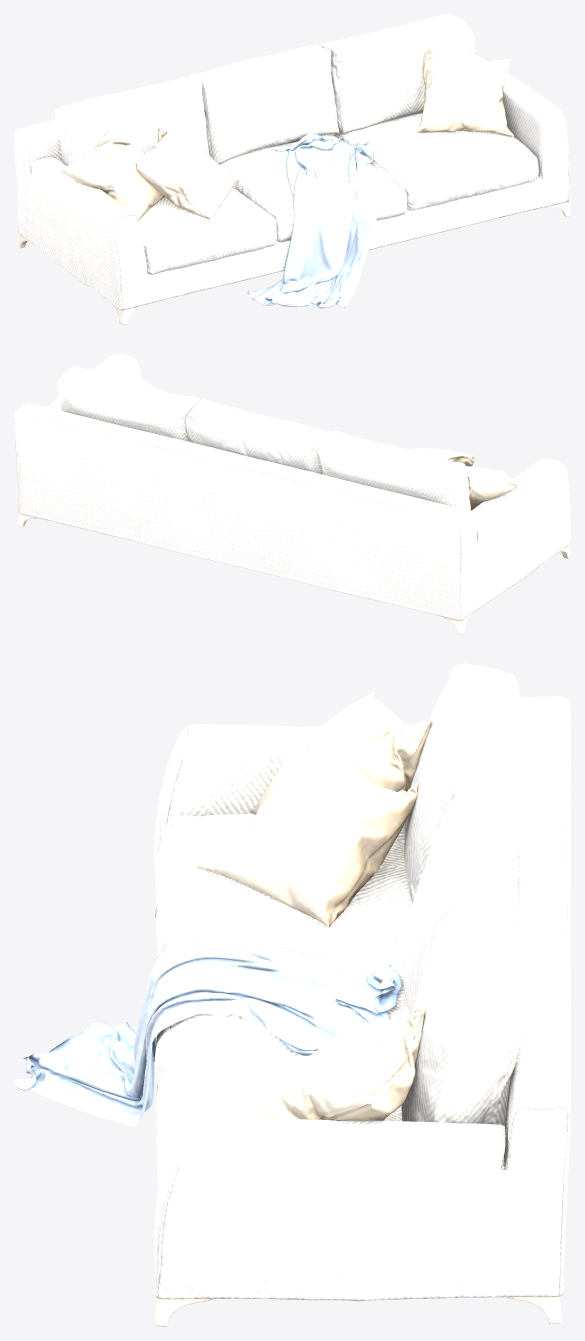
Rendered from shafa_1-processed-processed.glb.
The picture shows the model from 3 angles, top to bottom: view 1: azimuth 30°, elevation 25°; view 2: azimuth 150°, elevation 25°; view 3: azimuth 270°, elevation 25°; orthographic projection. The views are drawn at different scales.
Parts seen in each view (by area): view 1: sf_1, sf_2, sf_3, sf_4, mr_f_Leg_1_3; view 2: sf_2, sf_1, sf_3, mr_f_Leg_1_3; view 3: sf_2, sf_1, sf_3, sf_4, mr_f_Leg_1_3.
Boxes of the visible parts, x1,y1,x2,y2 form: sf_1: (54, 14, 538, 274); sf_2: (14, 26, 569, 310); sf_3: (60, 48, 513, 220); sf_4: (247, 132, 378, 308); mr_f_Leg_1_3: (17, 202, 570, 324); sf_2: (14, 353, 570, 620); sf_1: (56, 365, 471, 510); sf_3: (88, 369, 517, 509); mr_f_Leg_1_3: (17, 513, 570, 634); sf_2: (154, 696, 570, 1301); sf_1: (154, 663, 525, 1190); sf_3: (194, 692, 431, 1120); sf_4: (14, 939, 401, 1126); mr_f_Leg_1_3: (154, 903, 561, 1326).
Size of the model in its own units: 2.76 by 0.8551 by 1.54.
5 materials, 5 textured.
